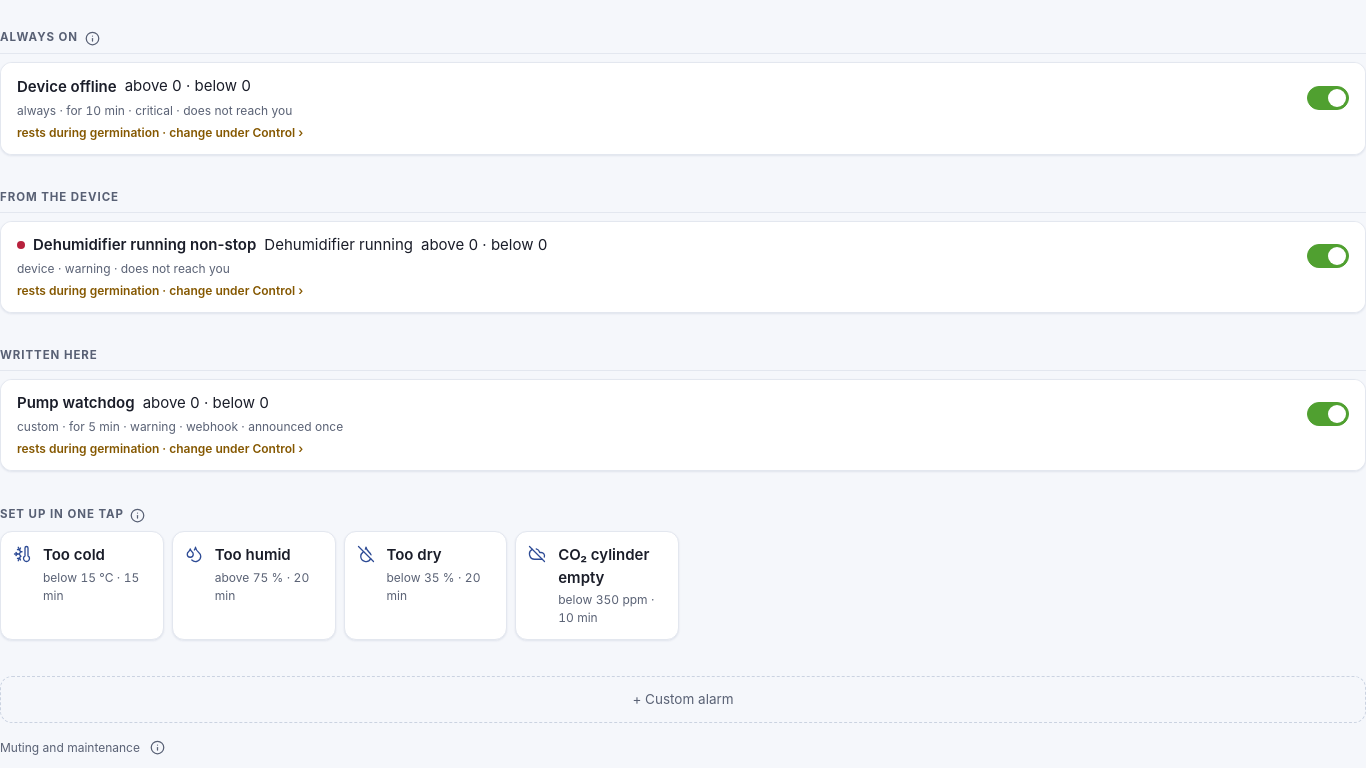
Test: the rule sheet › creates a rule with exactly the body the contract names
(page scrolled)
Click the button "+ Custom alarm" at x=683, y=700, box [0,676,1365,723]
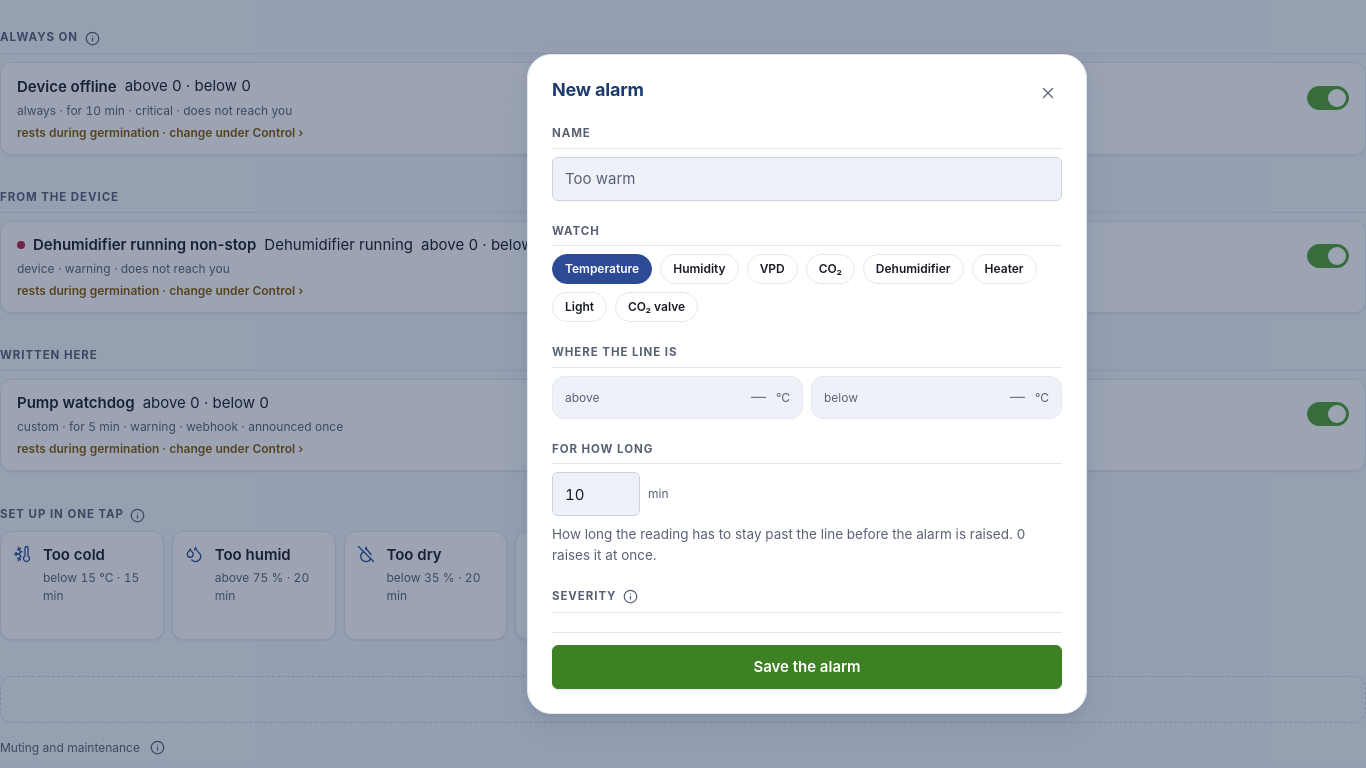
Type "Too humid" into the field named "Name" at x=807, y=179, box [552,157,1062,201]
Click the button "Humidity" at x=699, y=269, box [660,254,739,284]
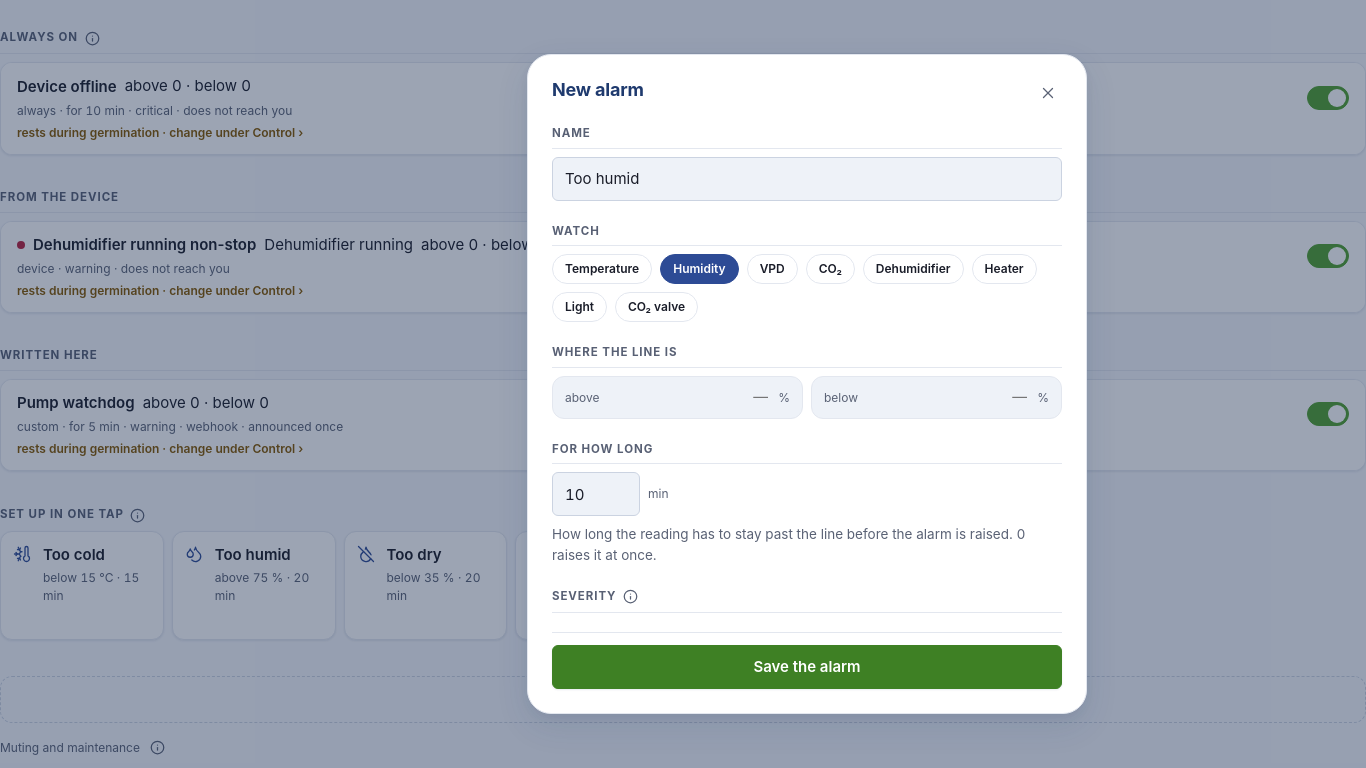
Type "60" into the number field labelled "above %" at x=734, y=397, box [698,385,770,410]
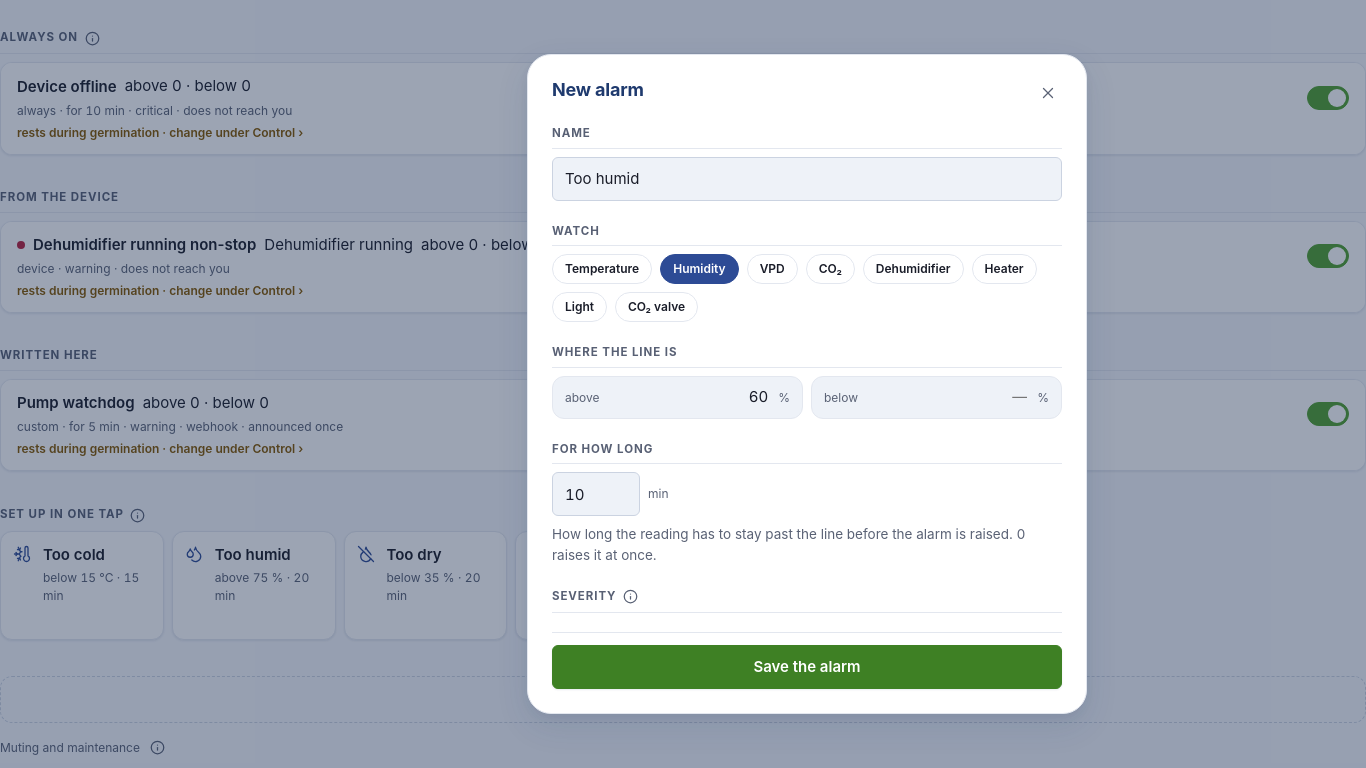
Replace the text in the number field named "For how long" with "20" at x=596, y=494, box [552,472,640,516]
(page scrolled)
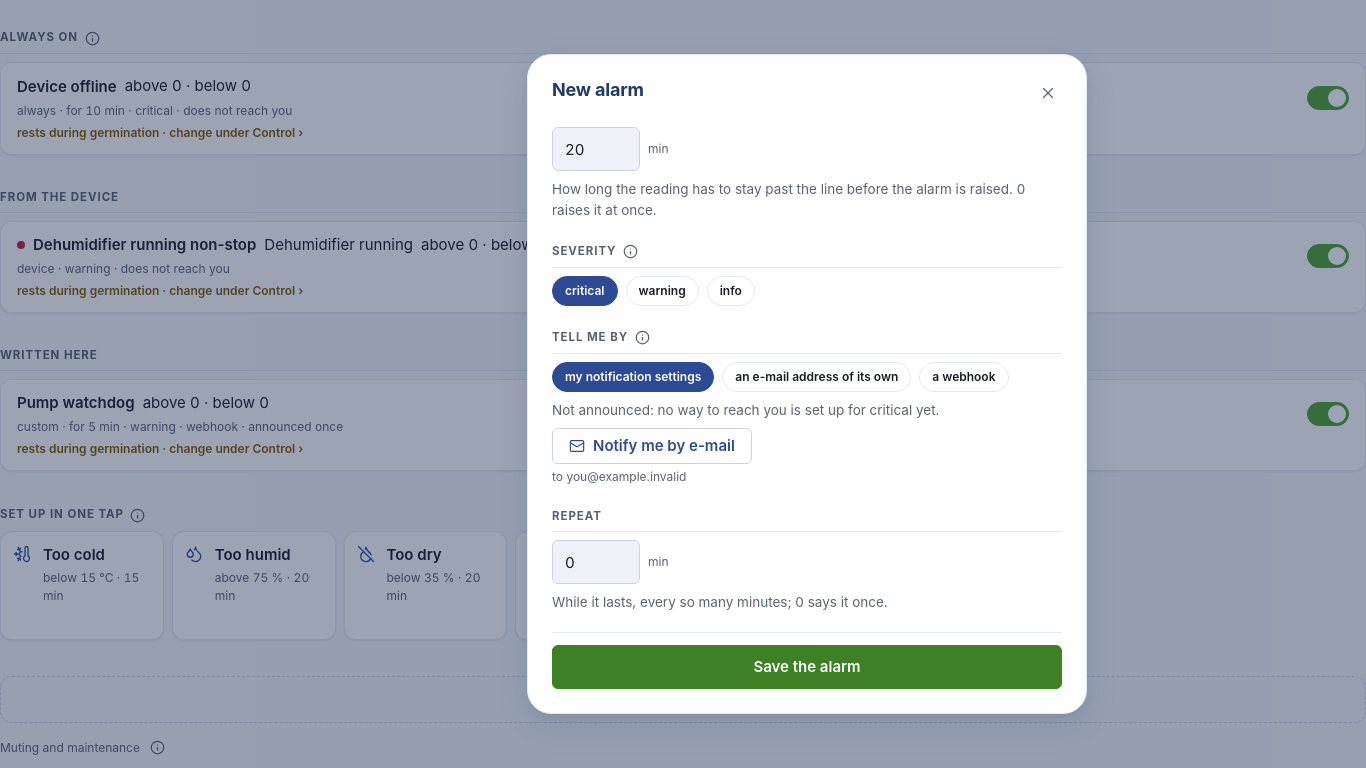
Replace the text in the number field named "every" with "15" at x=596, y=562, box [552,540,640,584]
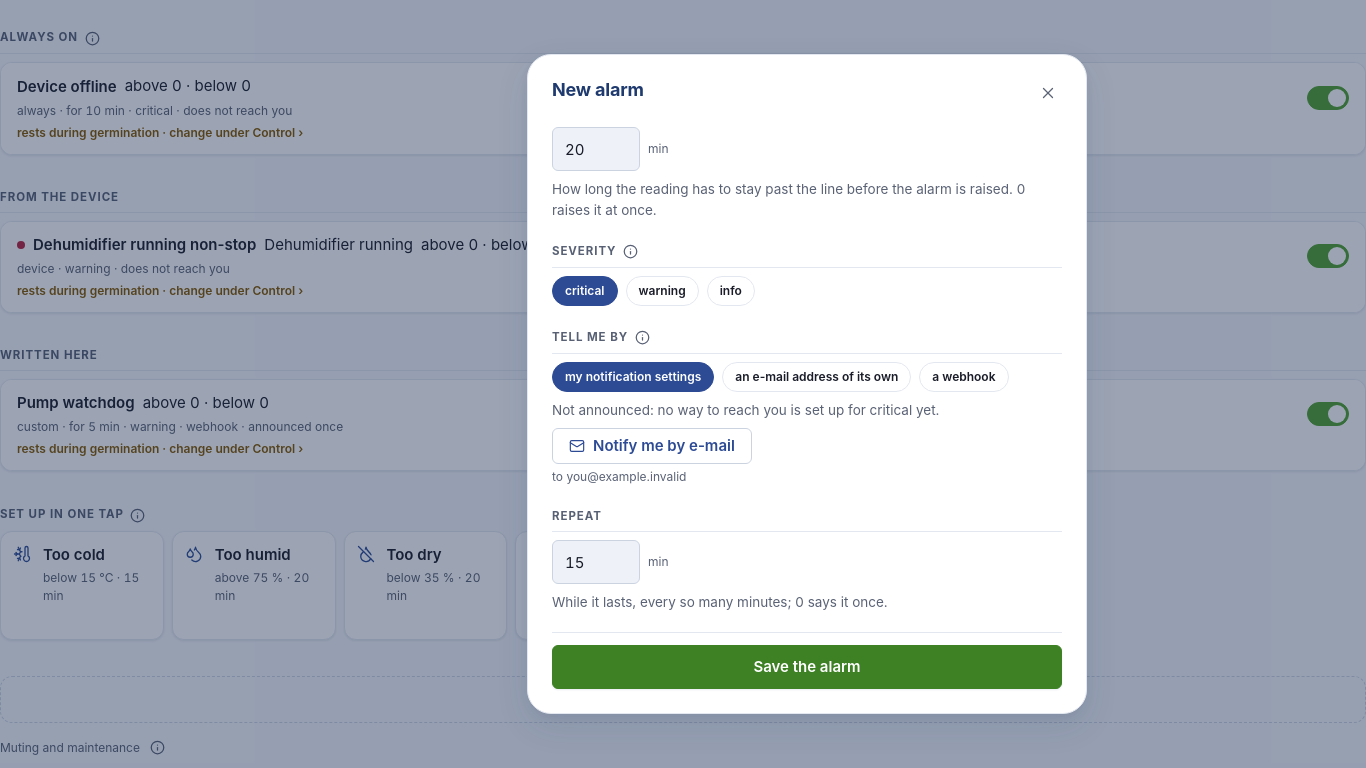
Click the button "Save the alarm" at x=807, y=667, box [552,645,1062,689]
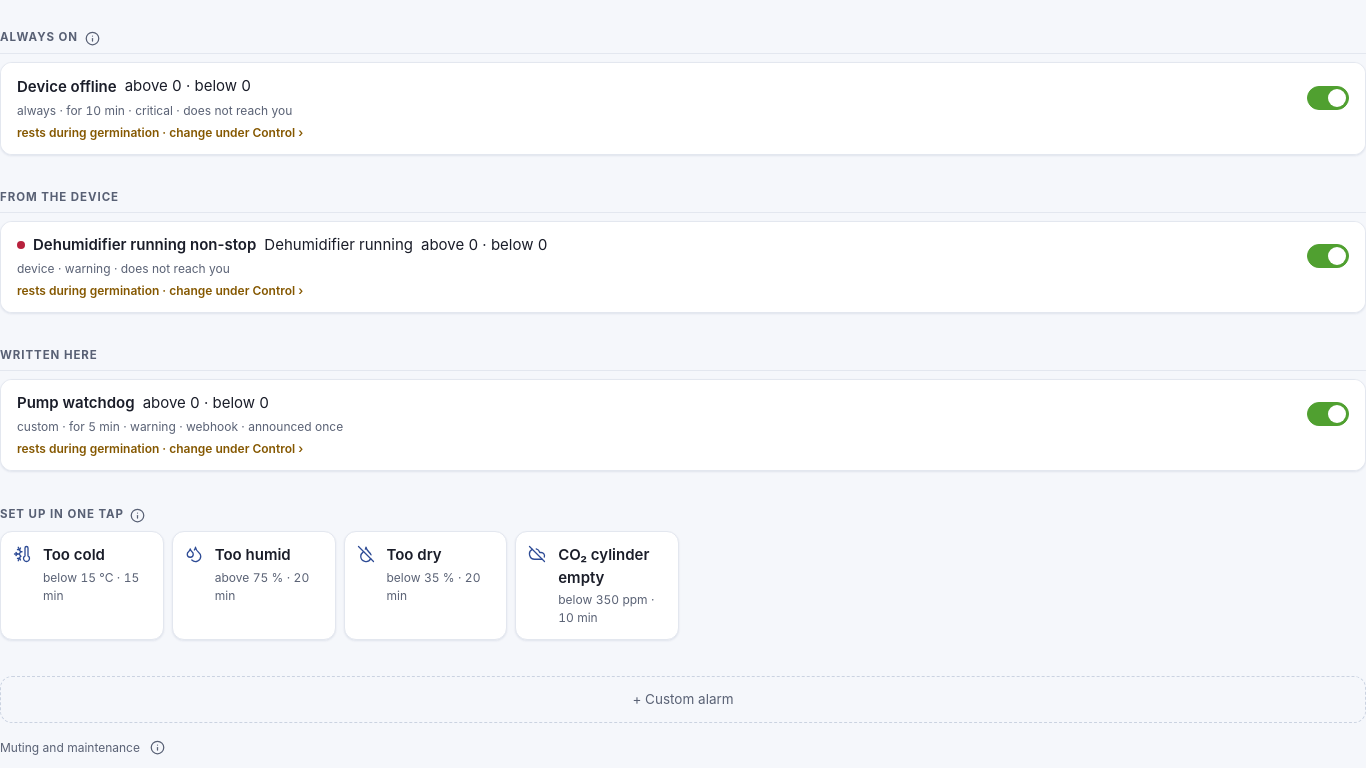
Result: the dialog is gone
